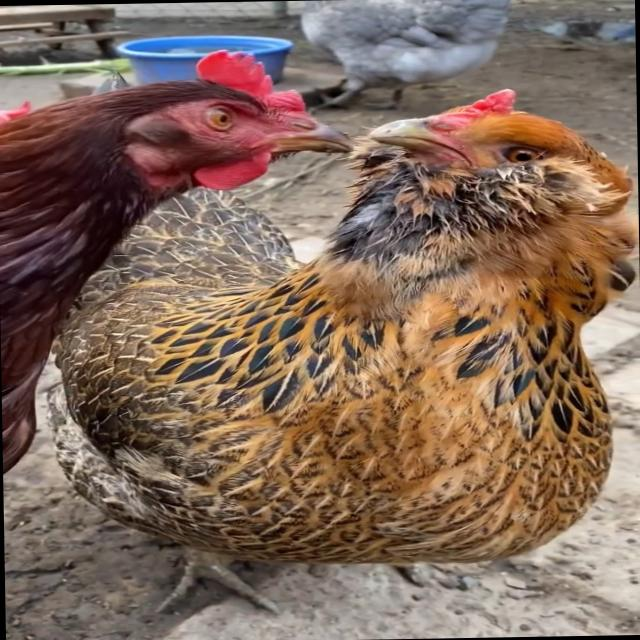allo preening: (0, 82, 640, 615)
